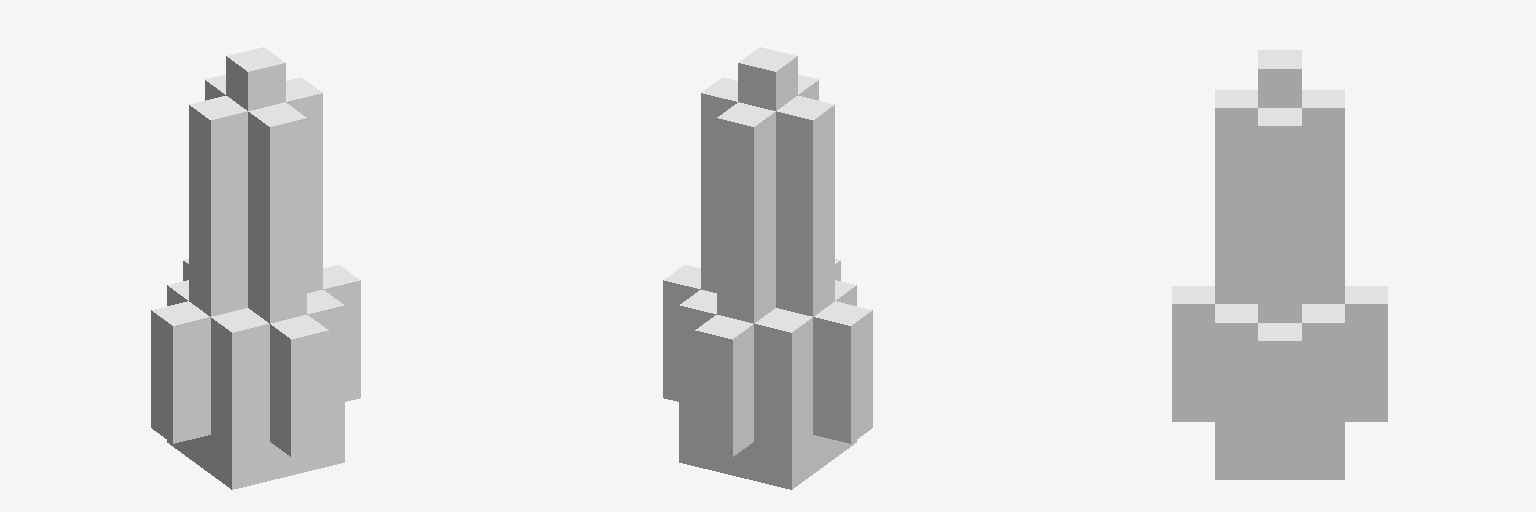
Rendered from ammo_missile.obj.
3 renders of one model, left to right at view 1: azimuth 30°, elevation 25°; view 2: azimuth 150°, elevation 25°; view 3: azimuth 270°, elevation 25°, orthographic.
Visible parts, largest first — view 1: ammo_missile; view 2: ammo_missile; view 3: ammo_missile.
Part boxes in pixels (x1,y1,x2,y2): ammo_missile: (151,47,360,489); ammo_missile: (663,47,872,489); ammo_missile: (1172,50,1387,479).
Size of the model in its own units: 5 by 10 by 5.